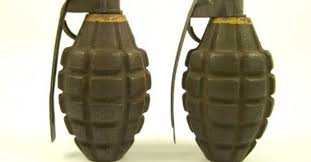e1: (171, 1, 276, 160), (50, 1, 153, 162)
